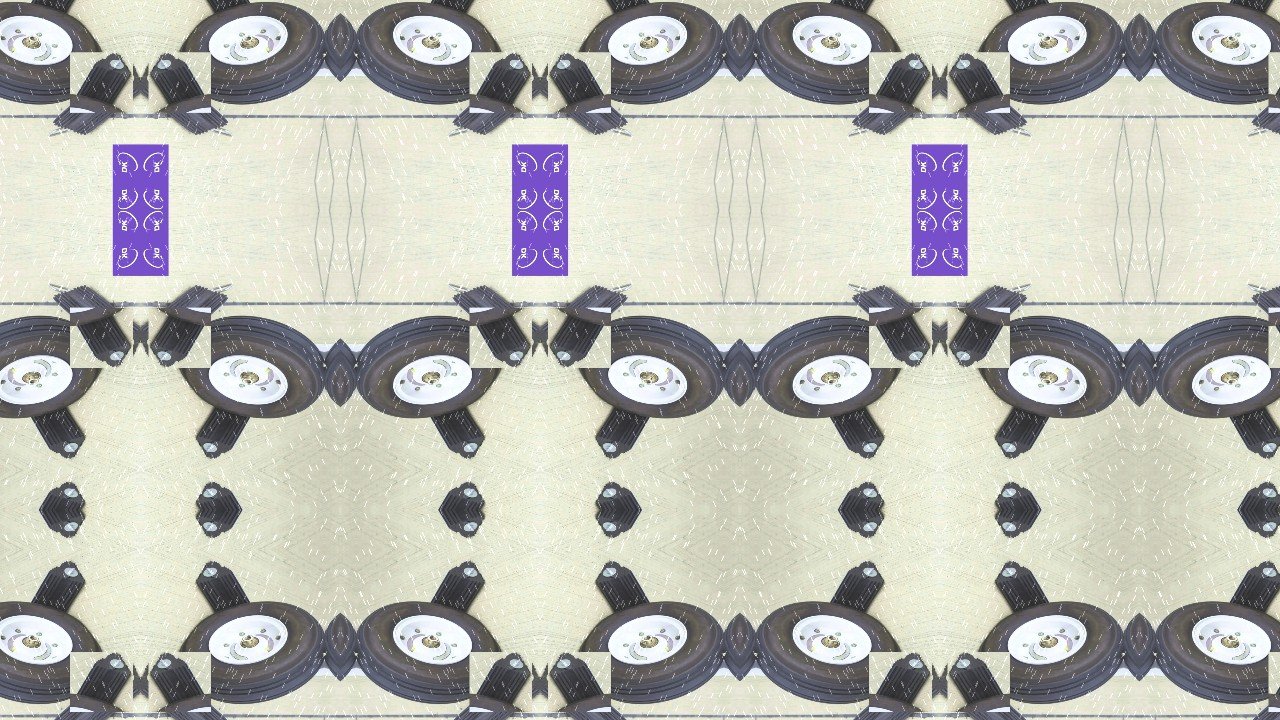chock: (51, 59, 140, 144), (140, 59, 229, 144), (451, 59, 540, 144), (540, 59, 629, 144), (851, 59, 940, 144), (940, 59, 1029, 144), (51, 276, 140, 361), (140, 276, 229, 361), (451, 276, 540, 361), (540, 276, 629, 361), (851, 276, 940, 361), (940, 276, 1029, 361), (51, 659, 140, 720), (140, 659, 229, 720), (451, 659, 540, 720), (540, 659, 629, 720), (851, 659, 940, 720), (940, 659, 1029, 720), (23, 399, 86, 460), (194, 399, 257, 460), (423, 399, 486, 460), (594, 399, 657, 460), (823, 399, 886, 460), (994, 399, 1057, 460), (23, 560, 86, 621), (194, 560, 257, 621), (423, 560, 486, 621), (594, 560, 657, 621), (823, 560, 886, 621), (994, 560, 1057, 621), (69, 52, 132, 112), (148, 52, 211, 112), (469, 52, 532, 112), (548, 52, 611, 112), (869, 52, 932, 112), (948, 52, 1011, 112), (69, 308, 132, 368), (148, 308, 211, 368), (469, 308, 532, 368), (548, 308, 611, 368), (869, 308, 932, 368), (948, 308, 1011, 368), (69, 652, 132, 712), (148, 652, 211, 712), (469, 652, 532, 712), (548, 652, 611, 712), (869, 652, 932, 712), (948, 652, 1011, 712), (1223, 399, 1280, 460), (1223, 560, 1280, 621), (1251, 59, 1280, 144), (1251, 276, 1280, 361), (23, 481, 86, 510), (194, 481, 257, 510), (423, 481, 486, 510), (594, 481, 657, 510), (823, 481, 886, 510), (994, 481, 1057, 510), (23, 510, 86, 539), (194, 510, 257, 539), (423, 510, 486, 539), (594, 510, 657, 539), (823, 510, 886, 539), (994, 510, 1057, 539), (1251, 659, 1280, 720), (1223, 481, 1280, 510), (1223, 510, 1280, 539), (23, 0, 86, 21), (194, 0, 257, 21), (423, 0, 486, 21), (594, 0, 657, 21), (823, 0, 886, 21), (994, 0, 1057, 21), (1223, 0, 1280, 21), (1269, 52, 1280, 112), (1269, 308, 1280, 368), (1269, 652, 1280, 712)
wheel: (180, 2, 324, 103), (356, 2, 500, 103), (580, 2, 724, 103), (756, 2, 900, 103), (980, 2, 1124, 103), (180, 317, 324, 418), (356, 317, 500, 418), (580, 317, 724, 418), (756, 317, 900, 418), (980, 317, 1124, 418), (180, 602, 324, 703), (356, 602, 500, 703), (580, 602, 724, 703), (756, 602, 900, 703), (980, 602, 1124, 703), (1156, 2, 1280, 103), (1156, 317, 1280, 418), (1156, 602, 1280, 703), (0, 2, 100, 103), (0, 317, 100, 418), (0, 602, 100, 703)
